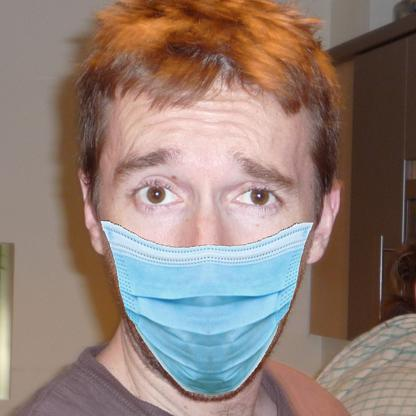mask: (96, 212, 314, 403)
